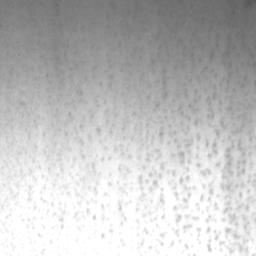Pitted surface: (222, 140, 245, 179), (172, 151, 190, 164), (206, 140, 217, 158), (221, 183, 243, 192), (237, 160, 246, 176), (229, 214, 238, 226), (244, 0, 256, 8), (224, 202, 232, 213), (200, 169, 211, 176)
